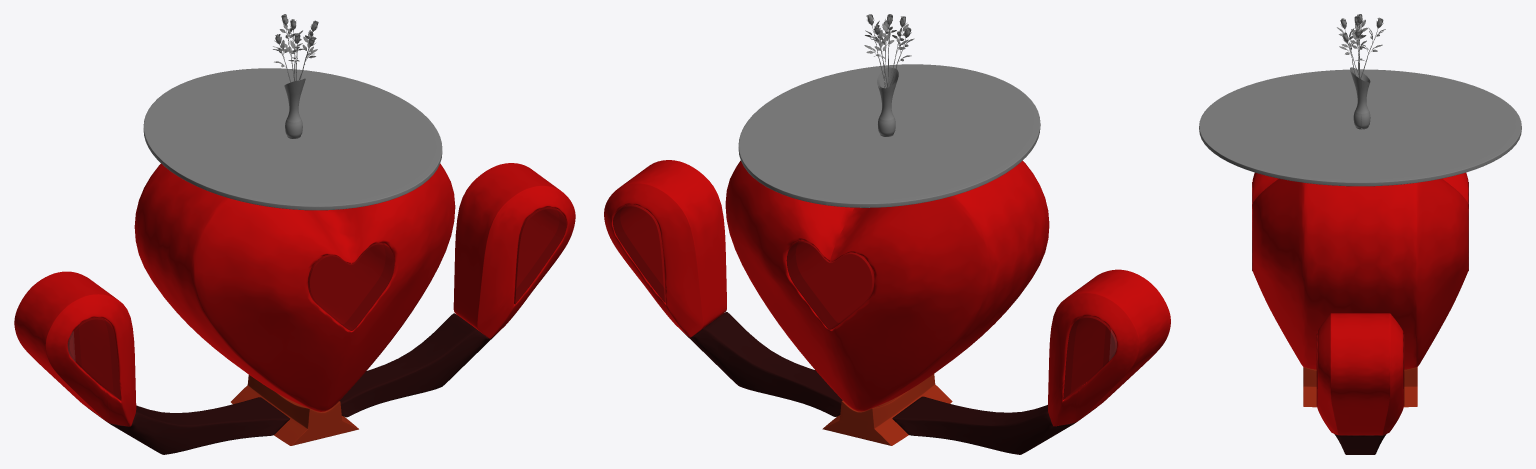
File: heartTable.fbx
3 views of the same model, side by side, from view 1: azimuth 30°, elevation 25°; view 2: azimuth 150°, elevation 25°; view 3: azimuth 270°, elevation 25° (orthographic). The views are drawn at different scales.
Parts seen in each view (by area): view 1: 3DSMeshMatrix, 3DSMeshMatrix_9, 3DSMeshMatrix_2, 3DSMeshMatrix_1, 3DSMeshMatrix_3, 3DSMeshMatrix_8, 3DSMeshMatrix_4; view 2: 3DSMeshMatrix, 3DSMeshMatrix_9, 3DSMeshMatrix_2, 3DSMeshMatrix_1, 3DSMeshMatrix_3, 3DSMeshMatrix_8, 3DSMeshMatrix_4, 3DSMeshMatrix_6; view 3: 3DSMeshMatrix, 3DSMeshMatrix_9, 3DSMeshMatrix_3, 3DSMeshMatrix_8, 3DSMeshMatrix_2, 3DSMeshMatrix_4, 3DSMeshMatrix_1, 3DSMeshMatrix_6.
Part boxes in pixels (bbox=[...]): 3DSMeshMatrix: bbox=[14, 163, 575, 426]; 3DSMeshMatrix_9: bbox=[143, 68, 442, 210]; 3DSMeshMatrix_2: bbox=[88, 313, 498, 454]; 3DSMeshMatrix_1: bbox=[67, 207, 566, 400]; 3DSMeshMatrix_3: bbox=[231, 375, 358, 445]; 3DSMeshMatrix_8: bbox=[284, 78, 305, 138]; 3DSMeshMatrix_4: bbox=[273, 24, 317, 67]; 3DSMeshMatrix: bbox=[604, 160, 1170, 426]; 3DSMeshMatrix_9: bbox=[738, 64, 1040, 207]; 3DSMeshMatrix_2: bbox=[682, 312, 1096, 454]; 3DSMeshMatrix_1: bbox=[613, 204, 1116, 399]; 3DSMeshMatrix_3: bbox=[822, 374, 952, 445]; 3DSMeshMatrix_8: bbox=[877, 67, 898, 136]; 3DSMeshMatrix_4: bbox=[864, 20, 914, 61]; 3DSMeshMatrix_6: bbox=[867, 18, 911, 88]; 3DSMeshMatrix: bbox=[1252, 172, 1468, 435]; 3DSMeshMatrix_9: bbox=[1199, 69, 1521, 186]; 3DSMeshMatrix_3: bbox=[1303, 367, 1417, 407]; 3DSMeshMatrix_8: bbox=[1350, 67, 1370, 129]; 3DSMeshMatrix_2: bbox=[1334, 434, 1386, 454]; 3DSMeshMatrix_4: bbox=[1337, 19, 1385, 61]; 3DSMeshMatrix_1: bbox=[1252, 182, 1468, 405]; 3DSMeshMatrix_6: bbox=[1340, 19, 1383, 79].
Size of the model in its own units: 14.6 by 10.45 by 8.14.
